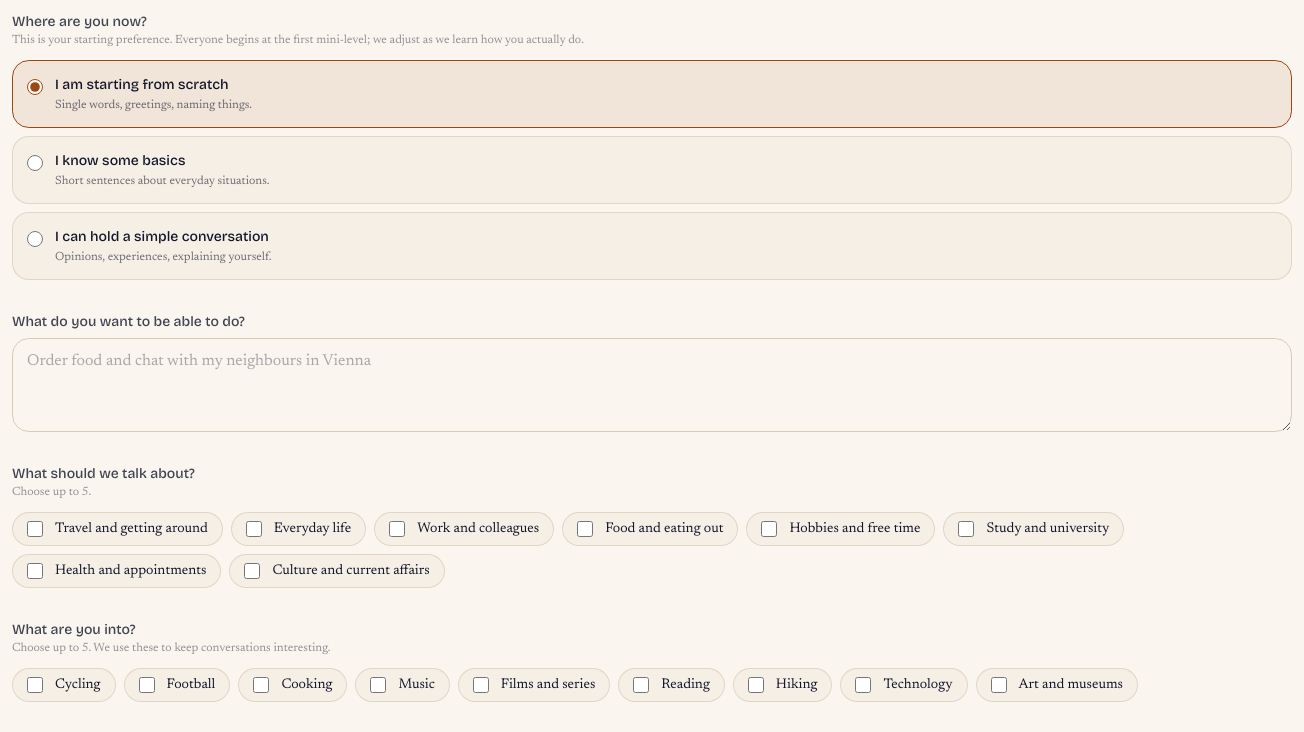
Test: the choosing limit › lets a learner swap one choice for another
Click the checkbox labelled "Travel and getting around": (35, 529) [27, 521, 43, 537]
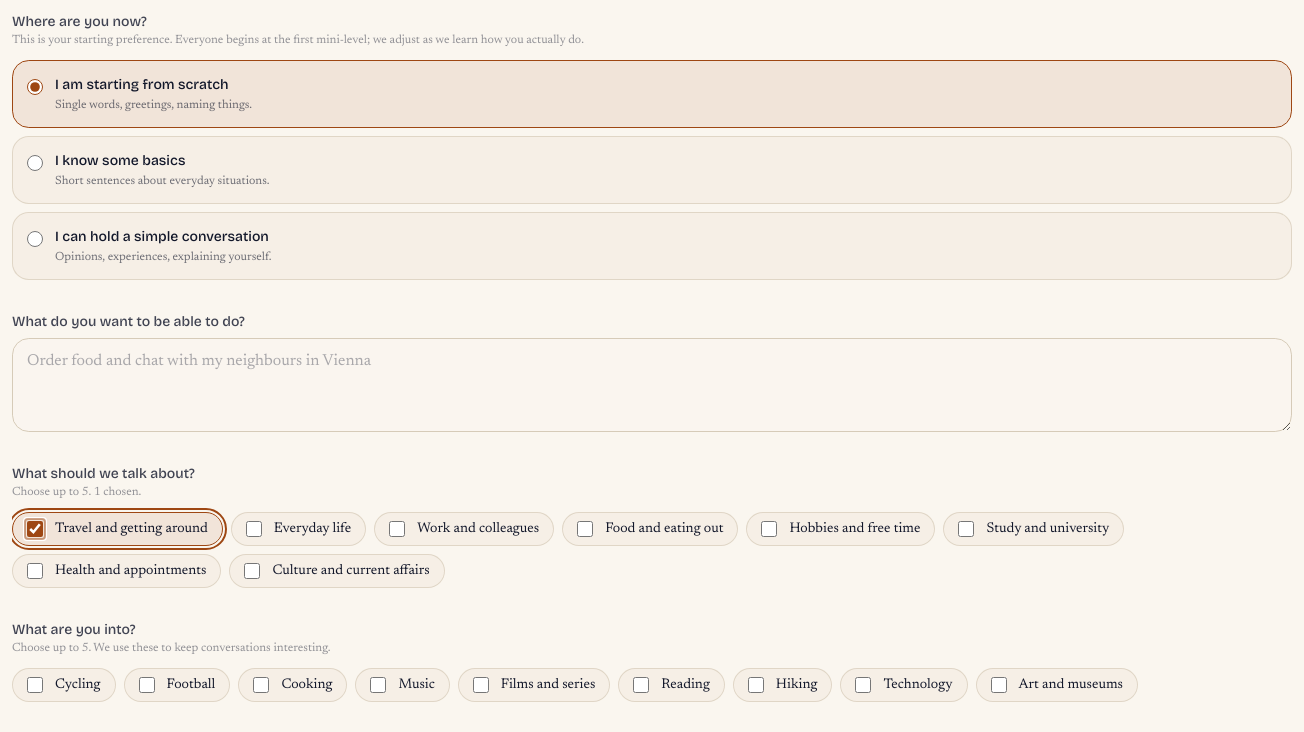
Click the checkbox labelled "Everyday life": (254, 529) [246, 521, 262, 537]
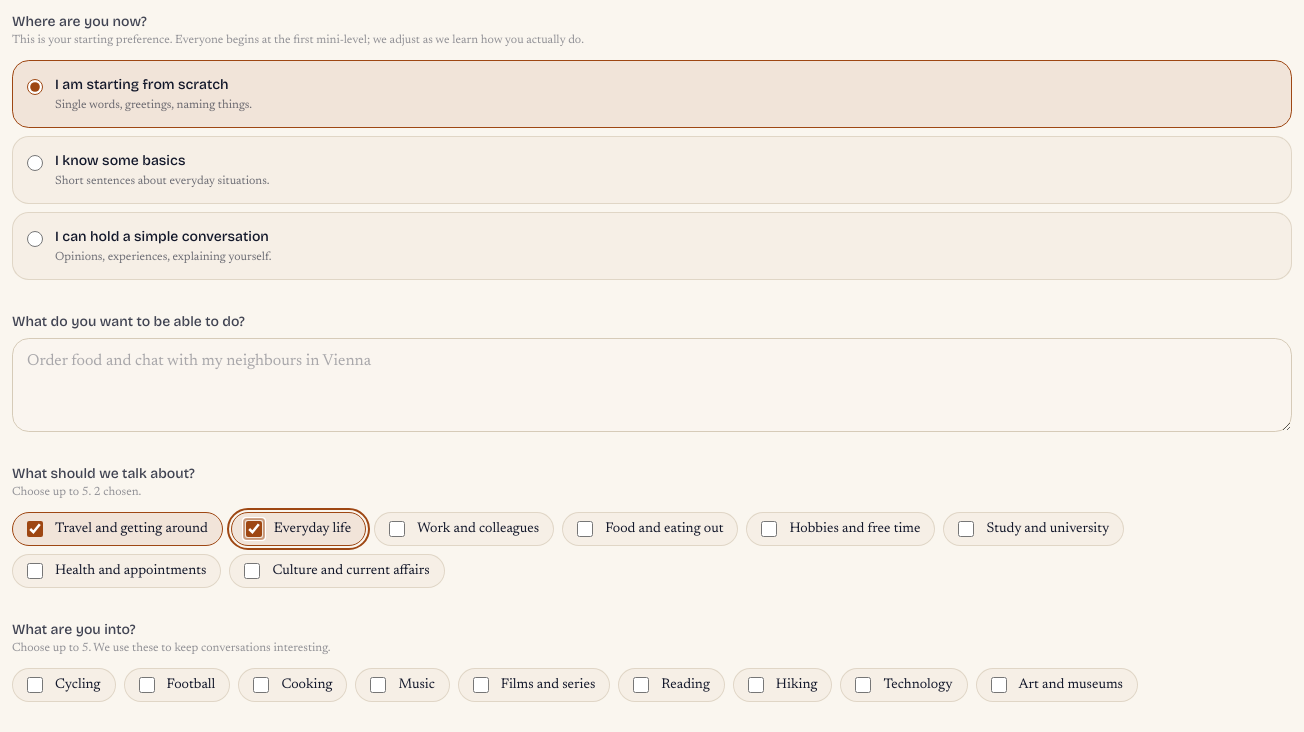
Click the checkbox labelled "Work and colleagues": (397, 529) [389, 521, 405, 537]
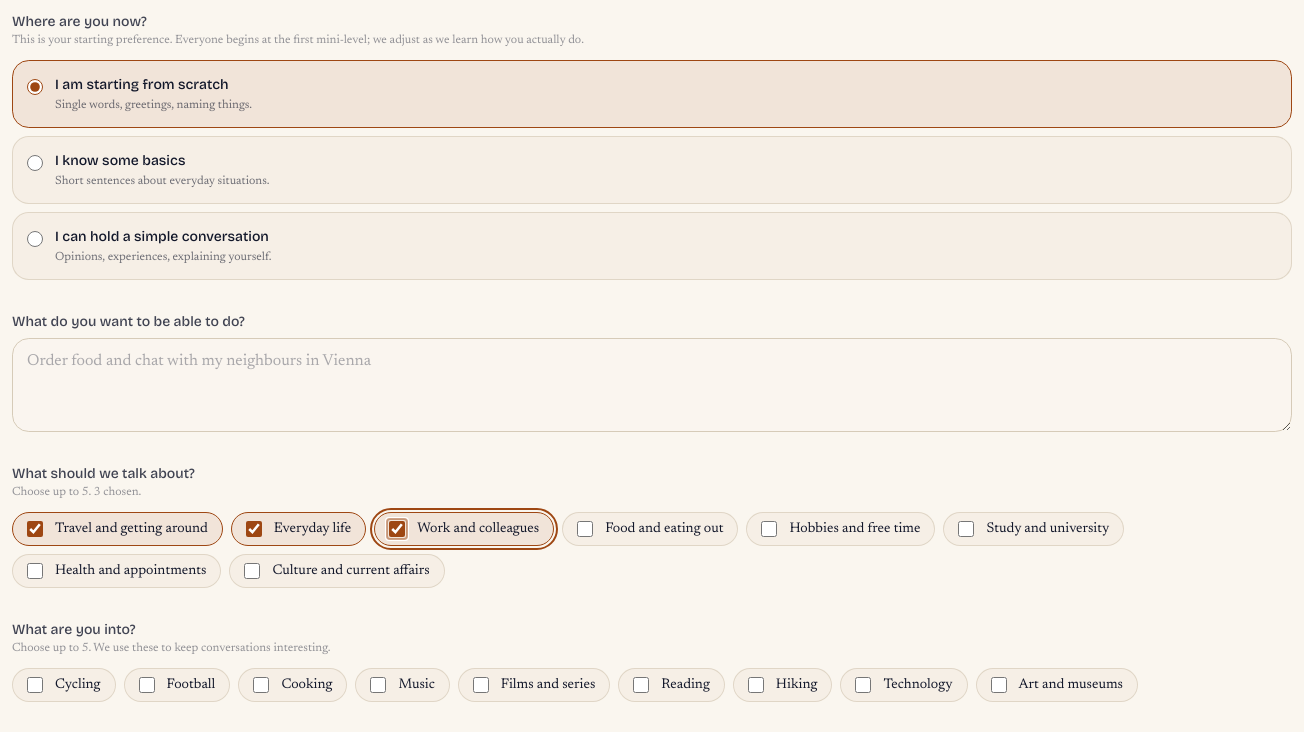
Click the checkbox labelled "Food and eating out": (585, 529) [577, 521, 593, 537]
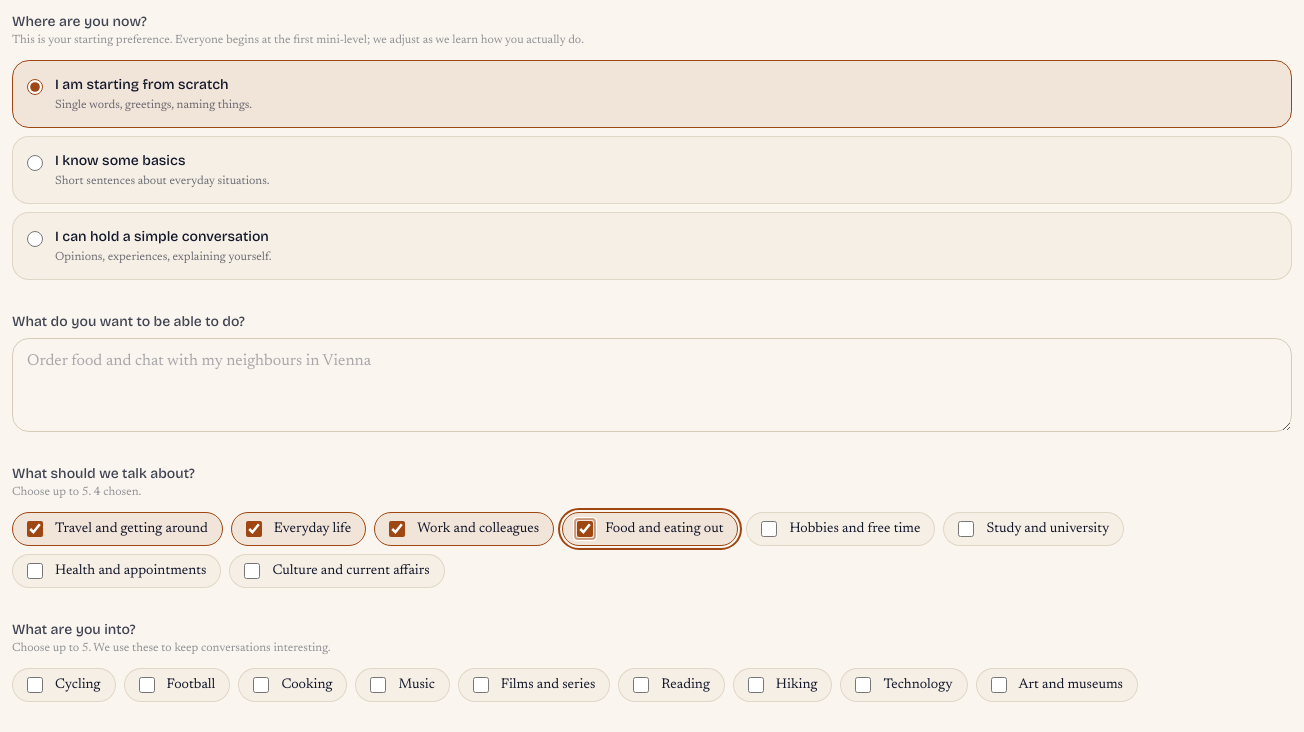
Click the checkbox labelled "Hobbies and free time": (769, 529) [761, 521, 777, 537]
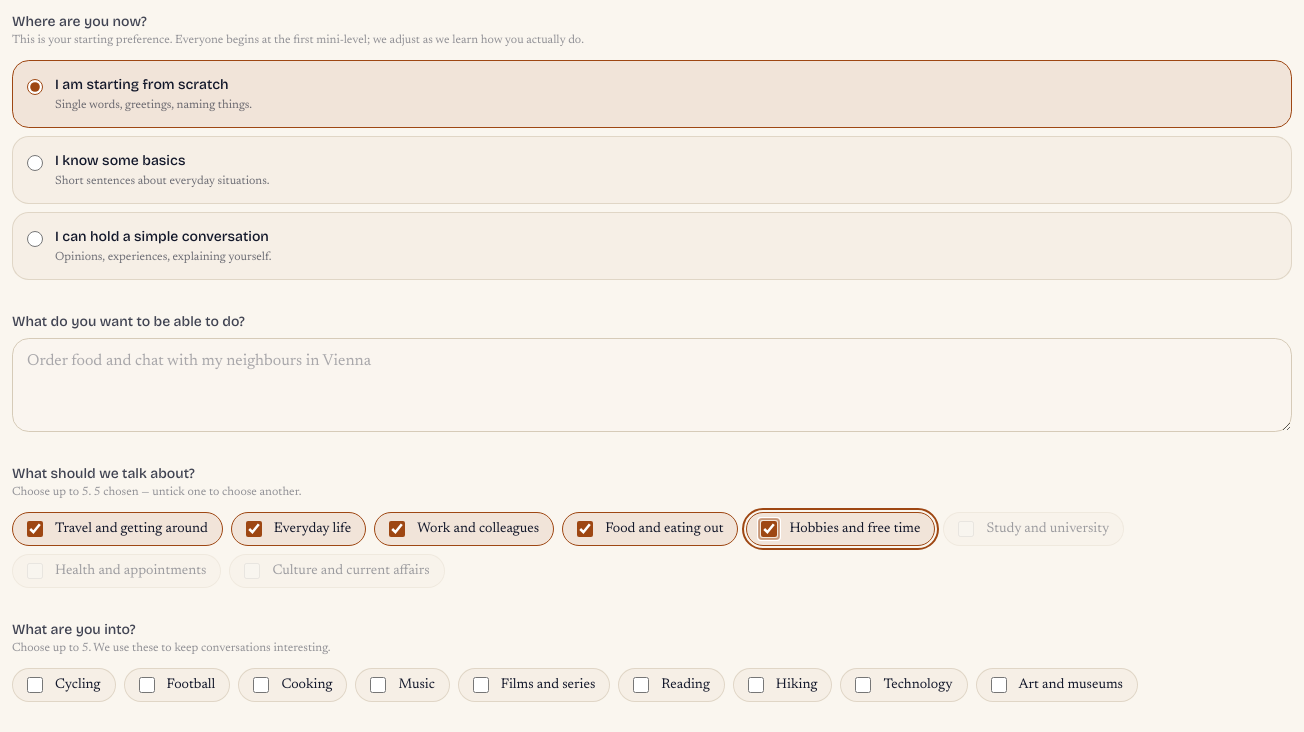
Click the checkbox labelled "Travel and getting around": (35, 529) [27, 521, 43, 537]
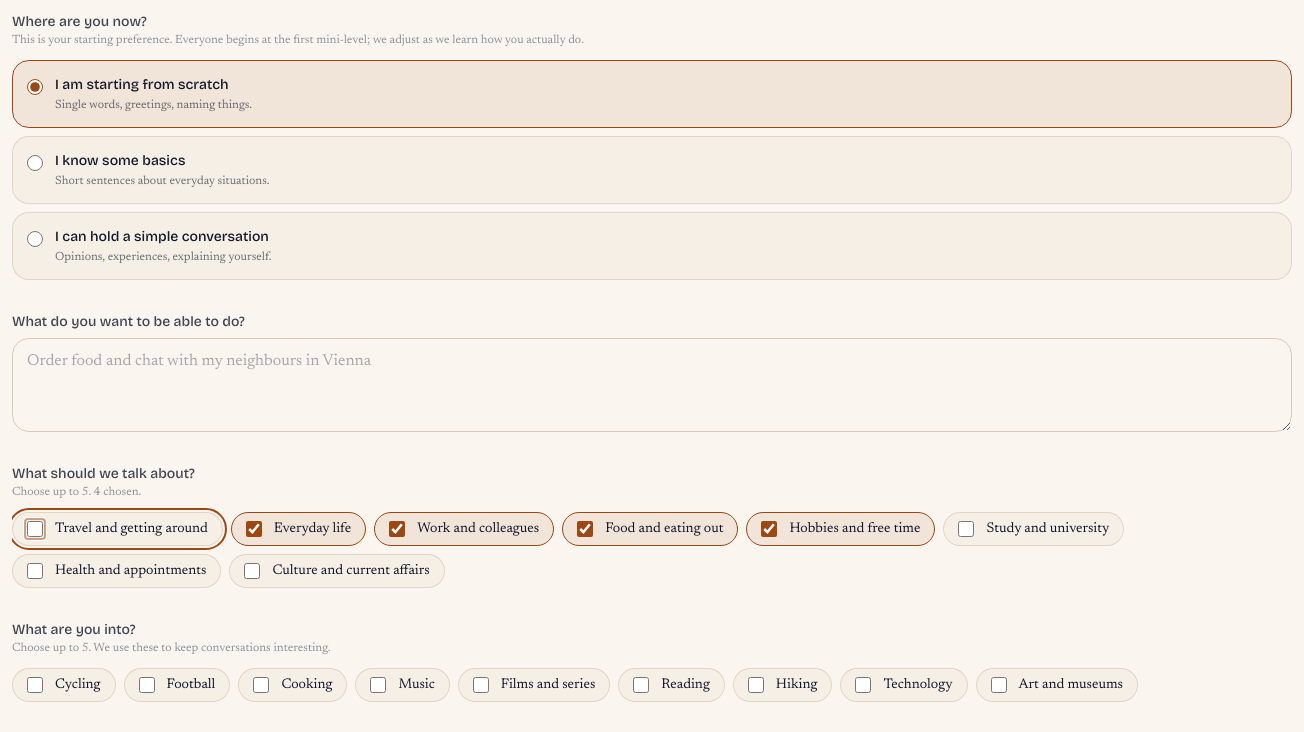
Result: the checkbox labelled "Study and university" is enabled at [958, 521, 974, 537]
